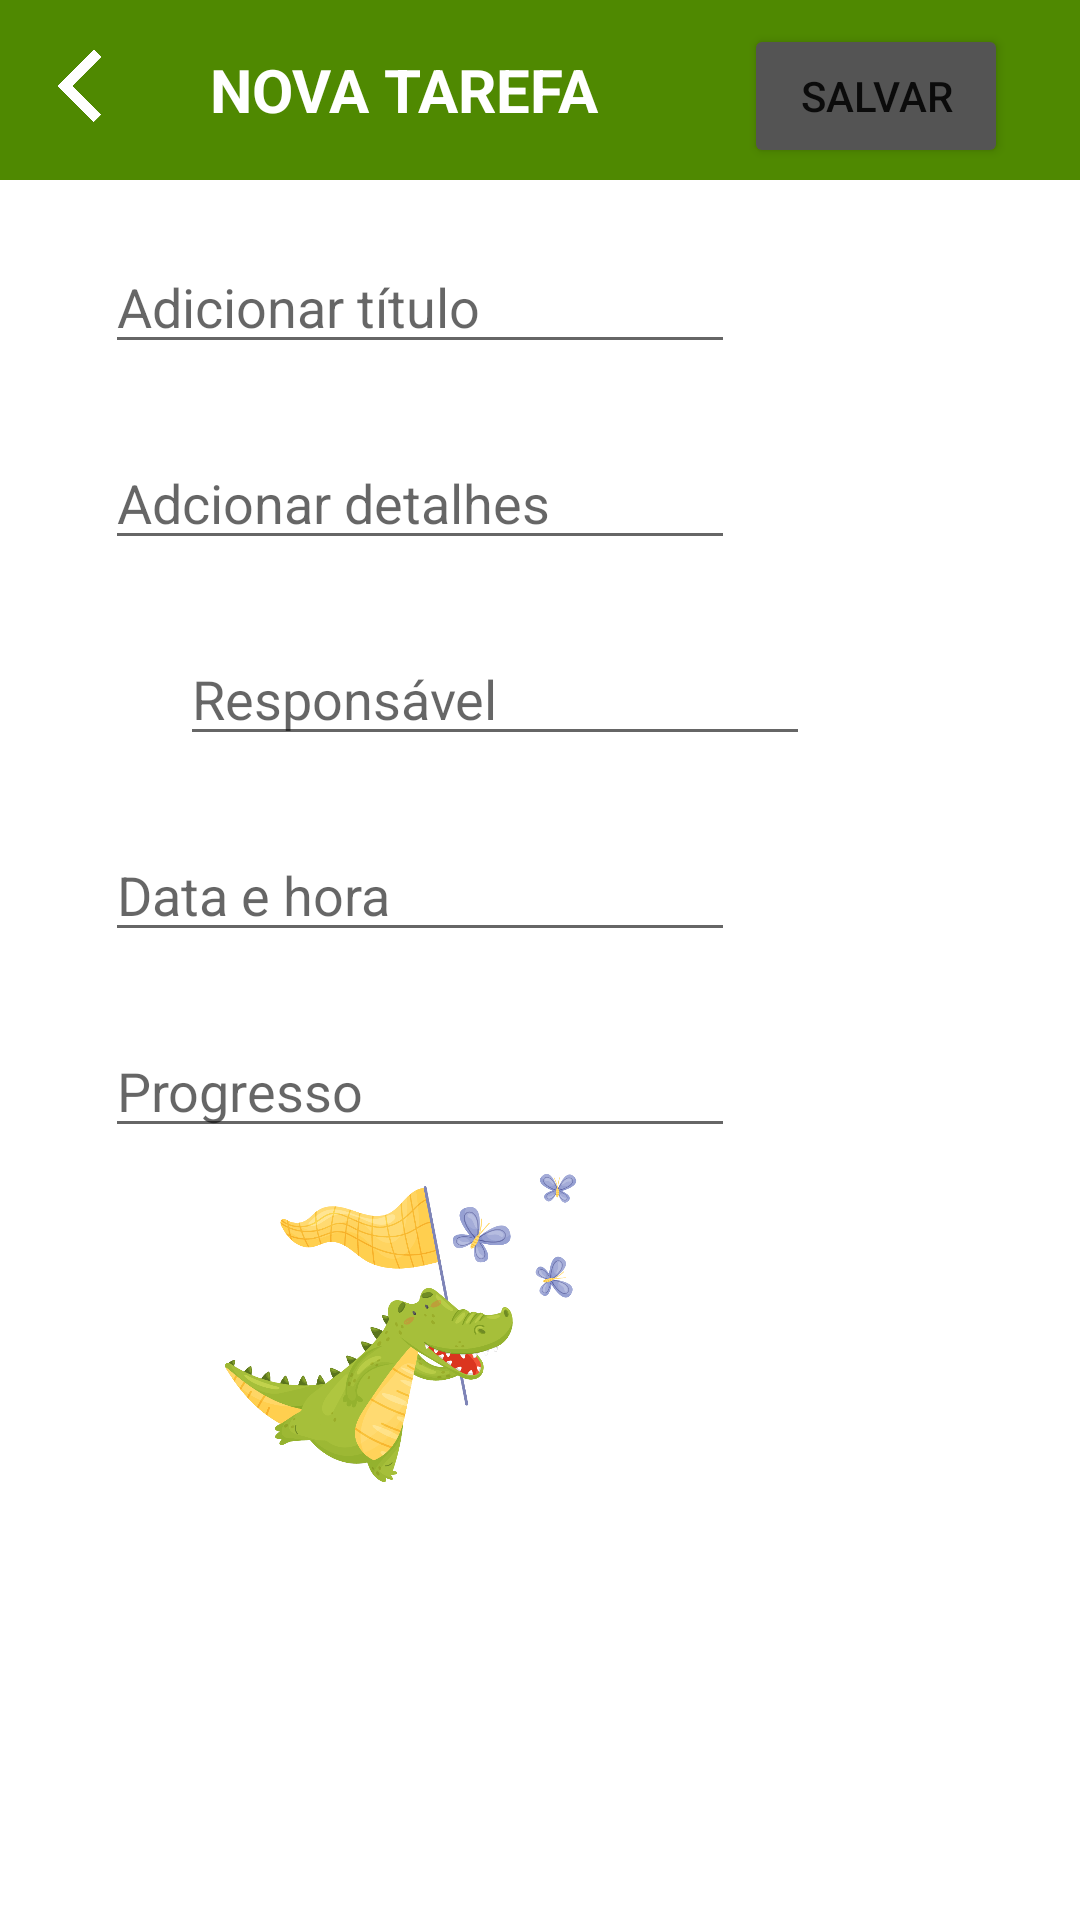

Icon bounding boxes for this 1080w x 1920h phone screenshot, format bbox=(x1, y1, x2, y2):
jacare: bbox=(225, 1174, 576, 1482)
seta: bbox=(58, 50, 101, 122)
